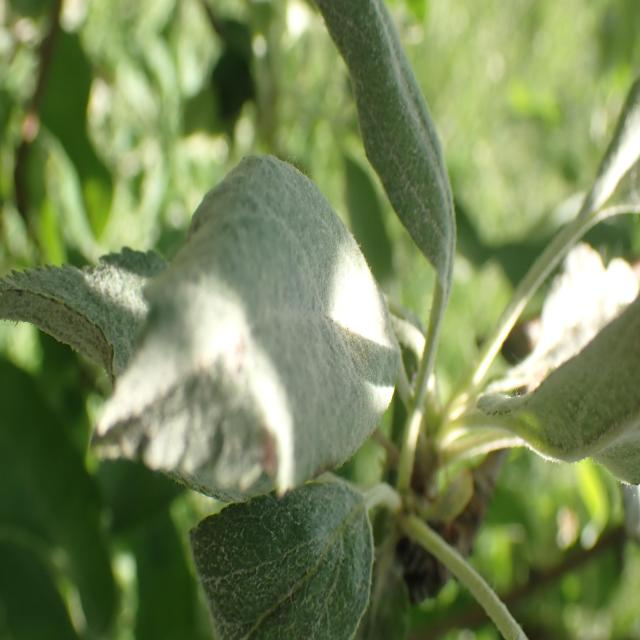Powdery_mildew: (124, 136, 385, 510), (334, 0, 454, 368), (490, 301, 640, 521), (0, 208, 167, 381)
